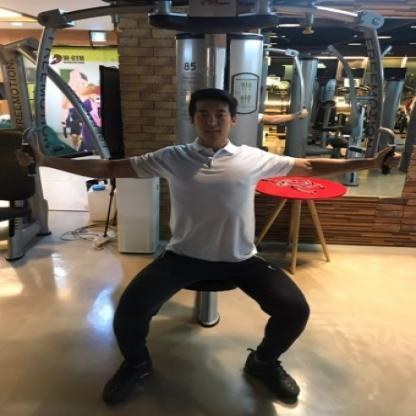chest fly machine: (18, 2, 407, 416)
